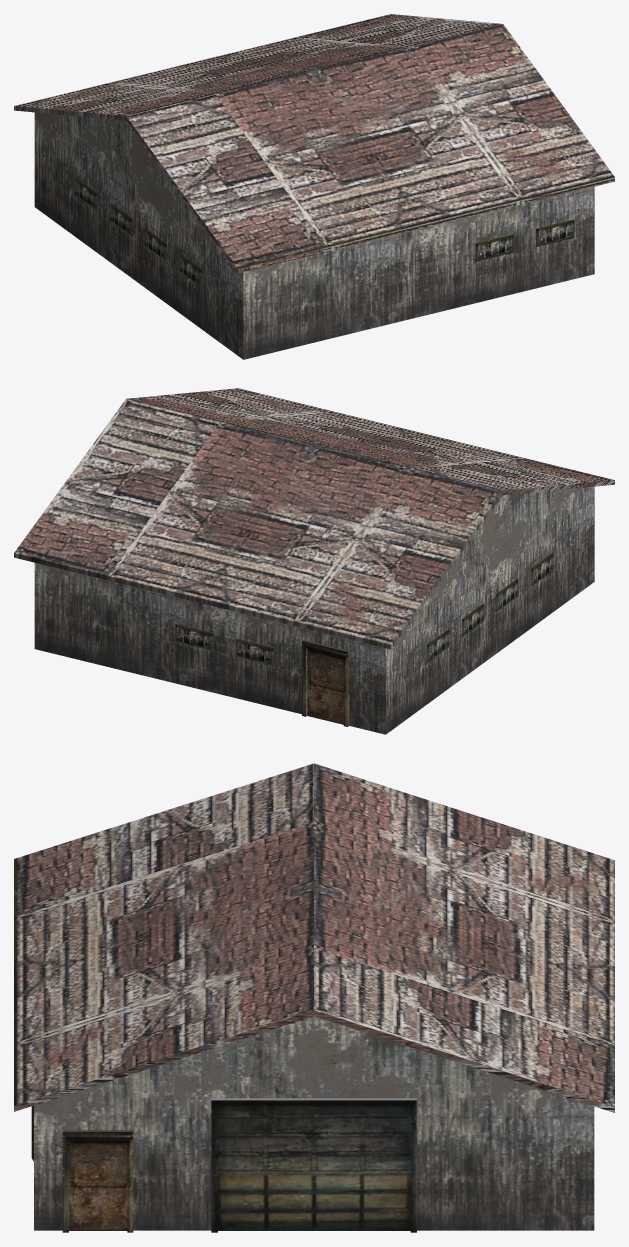
File: warehs05.glb
3 renders of one model, top to bottom at view 1: azimuth 30°, elevation 25°; view 2: azimuth 150°, elevation 25°; view 3: azimuth 270°, elevation 25°, orthographic. The views are drawn at different scales.
Parts seen in each view (by area): view 1: _warehs05; view 2: _warehs05; view 3: _warehs05.
Boxes of the visible parts, bbox=[...] form: _warehs05: bbox=[14, 14, 614, 359]; _warehs05: bbox=[14, 388, 614, 734]; _warehs05: bbox=[14, 763, 614, 1232].
Size of the model in its own units: 15.3 by 6.62 by 15.75.
Materials: 1 (1 with a texture image).
